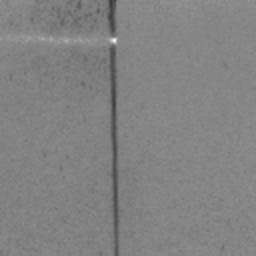Scratches: (108, 45, 120, 256), (107, 0, 117, 36), (49, 23, 59, 34)
